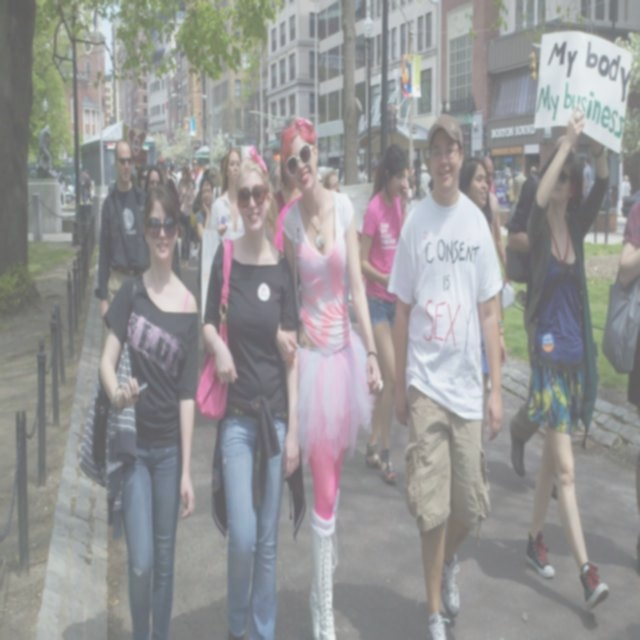pessoa: (267, 113, 384, 640), (387, 114, 502, 640), (94, 180, 205, 640), (200, 155, 302, 639), (524, 104, 610, 612), (504, 132, 580, 483), (359, 142, 410, 486), (599, 184, 640, 576), (94, 138, 154, 326), (458, 156, 494, 407), (481, 156, 514, 294), (194, 175, 214, 359), (209, 148, 246, 234), (270, 150, 302, 218), (176, 160, 196, 261), (158, 166, 178, 262), (178, 166, 195, 269), (155, 162, 181, 214), (34, 125, 54, 176), (264, 148, 286, 194), (192, 169, 212, 214), (582, 154, 593, 232), (212, 153, 228, 199), (142, 165, 165, 195), (156, 156, 200, 170), (513, 166, 528, 204), (189, 157, 202, 197), (322, 171, 341, 196), (420, 163, 430, 200), (428, 164, 436, 210), (136, 164, 150, 190), (84, 169, 94, 205), (208, 166, 223, 188), (407, 166, 416, 201), (370, 159, 380, 182), (358, 163, 368, 184), (530, 166, 540, 186), (80, 172, 86, 204), (504, 178, 510, 210), (623, 175, 631, 198), (618, 175, 624, 202), (338, 157, 344, 184), (624, 177, 631, 197), (176, 167, 182, 188), (506, 173, 514, 188), (73, 169, 76, 201), (404, 168, 408, 188), (490, 181, 496, 194), (54, 169, 60, 179), (204, 164, 209, 172), (322, 172, 326, 182), (508, 177, 510, 188)
